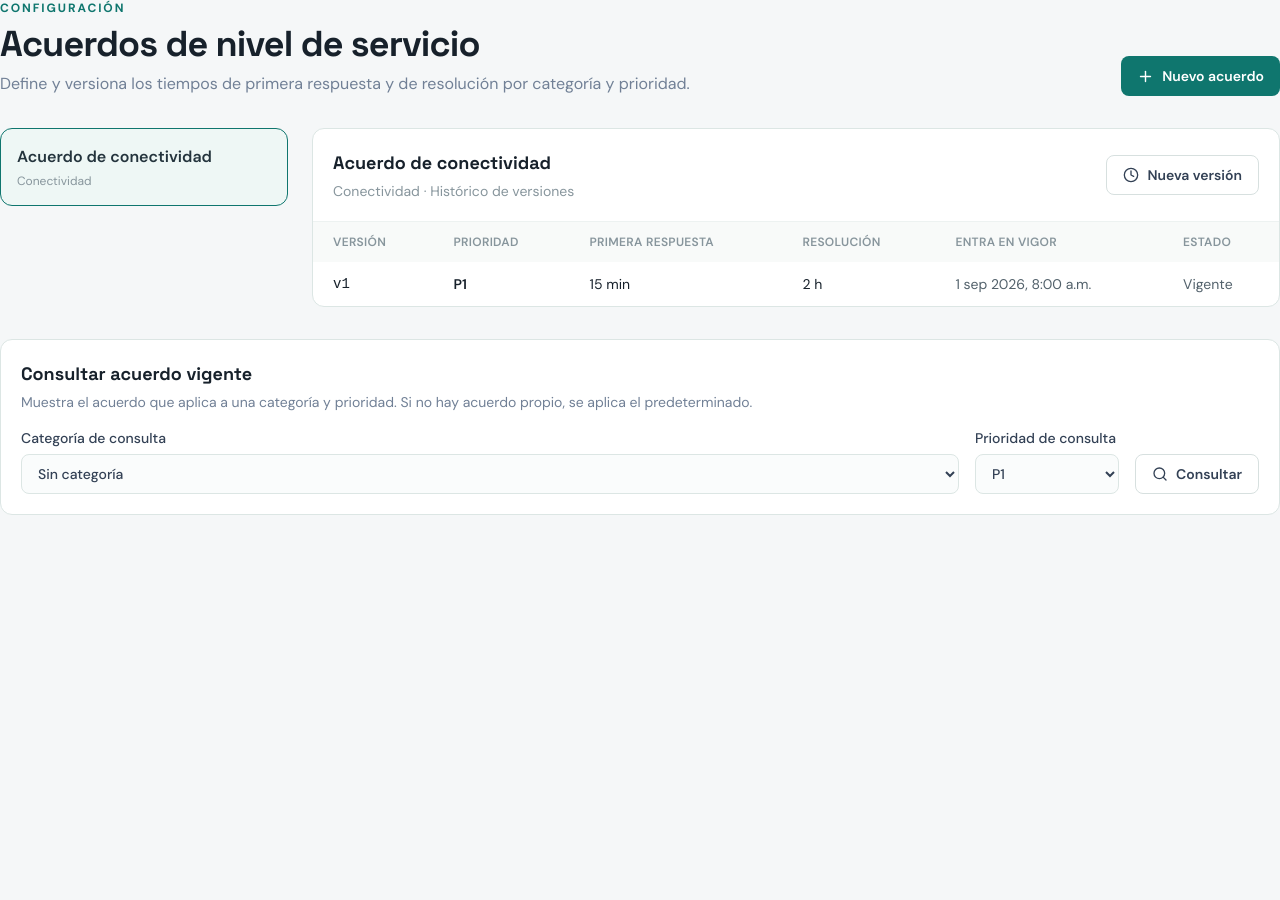
it: SlaPage: configuración de SLA (S2-14, HU-08.1) › AC2: rechaza una resolución menor o igual a la primera respuesta
This screenshot has width=1280, height=900.
Expected: the text "v1" is shown, [313,262,434,306]
Click the button "Nueva versión": [1183, 175] box [1106,155,1259,195]
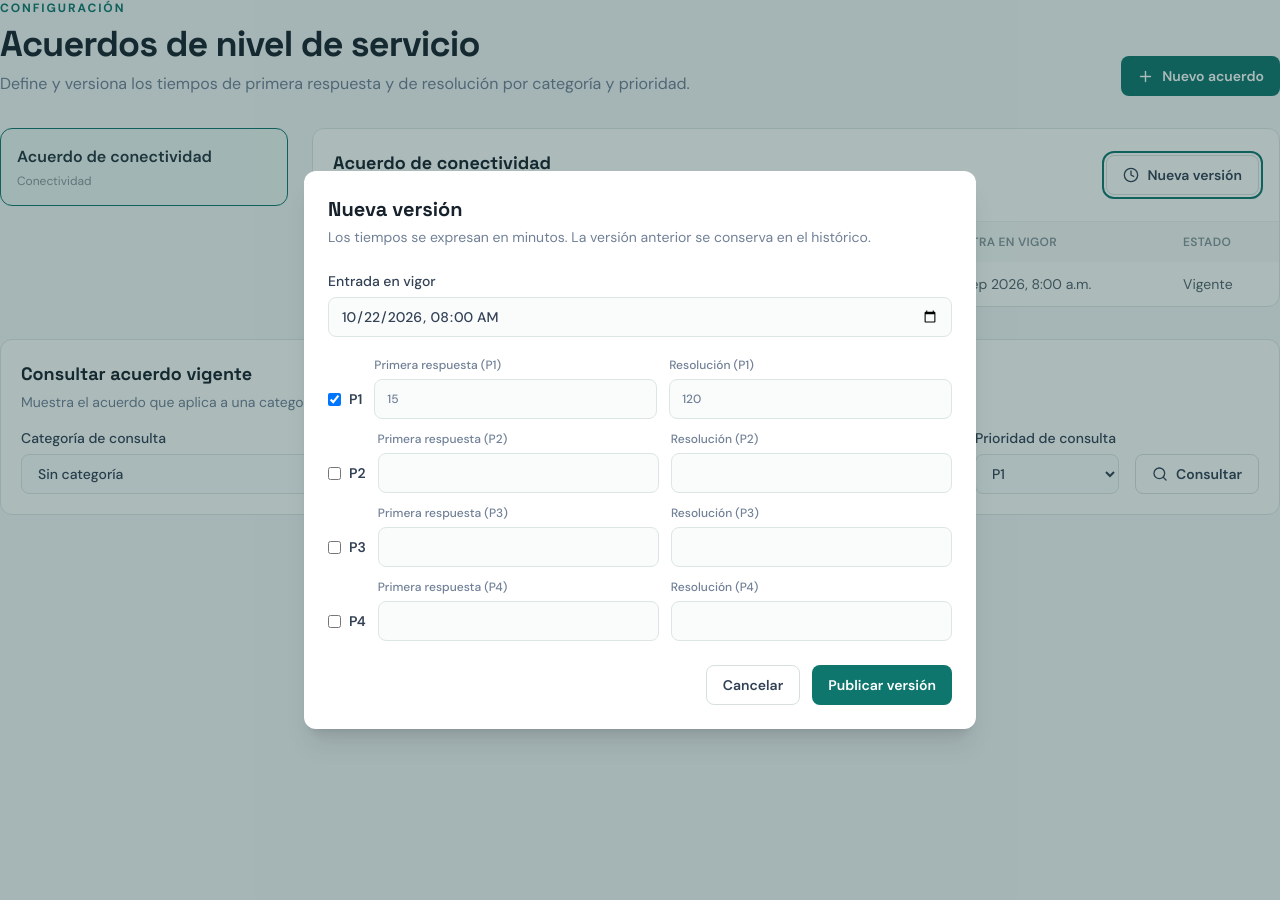
Replace the text in the number field labelled "Resolución (P1)" with "10": [811, 399] box [669,379,952,419]
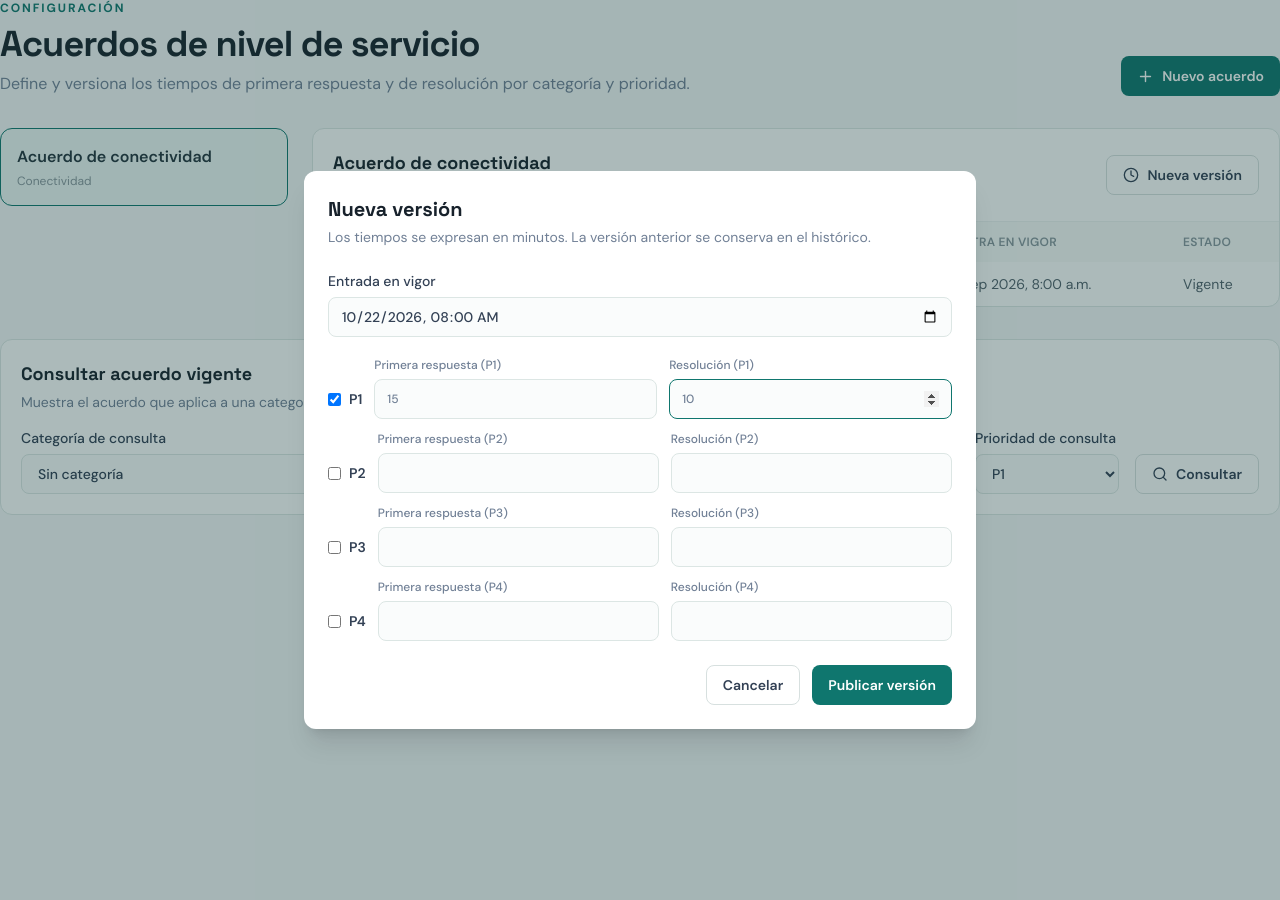
Click the button "Publicar versión": [882, 685] box [812,665,952,705]
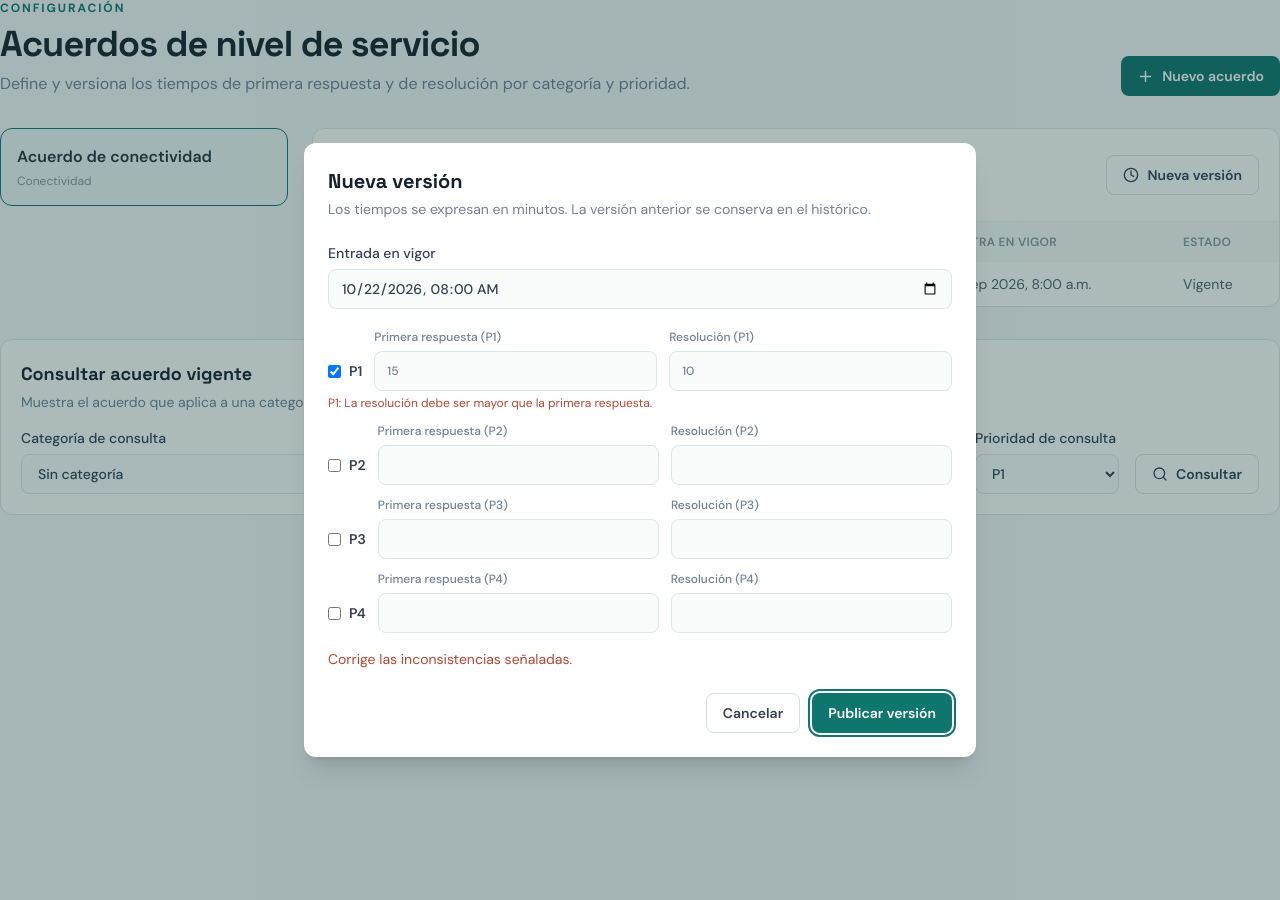
Now the text "P1: La resolución debe ser mayor que la primera respuesta." is shown, box [328,395,652,411]
